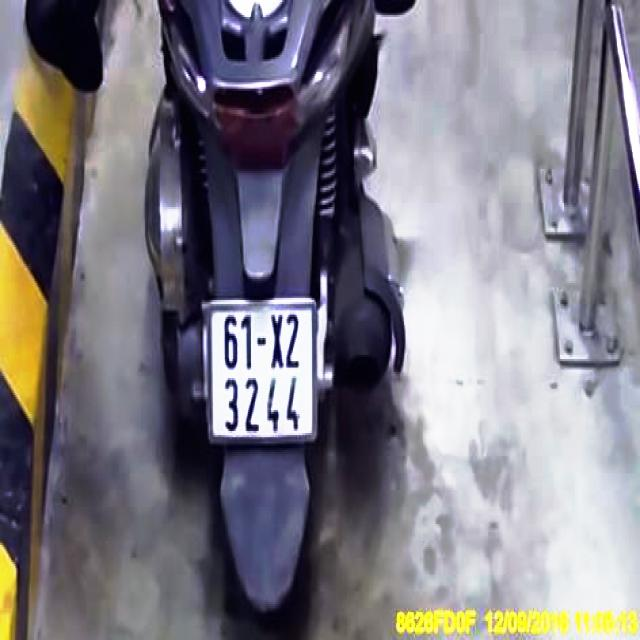license_plate: (210, 302, 316, 441)
